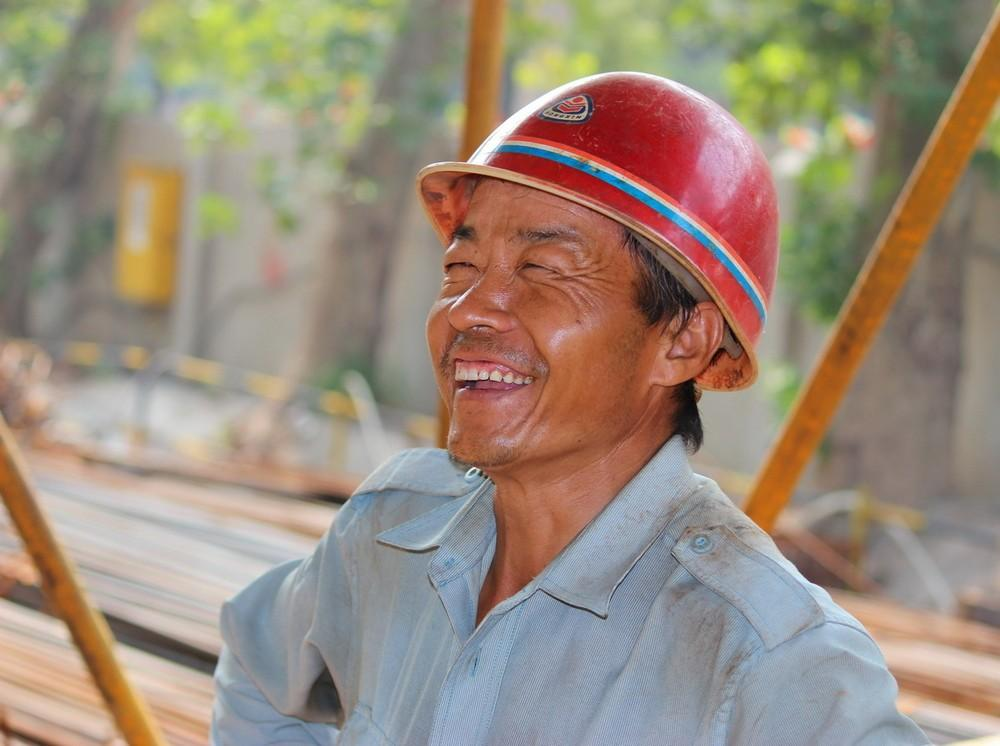helmet: (418, 69, 808, 388)
